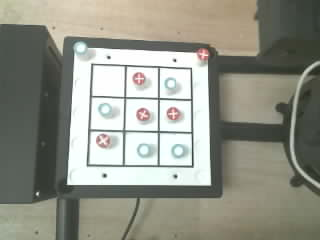blue circle: (137, 143, 150, 157), (73, 41, 87, 54), (171, 144, 185, 157), (98, 103, 111, 116), (164, 77, 176, 89)
board: (67, 41, 213, 185)
cells: (125, 132, 157, 165), (89, 132, 122, 164), (160, 133, 192, 165), (125, 99, 157, 130), (91, 98, 123, 129), (92, 65, 124, 96), (159, 100, 191, 131), (160, 68, 191, 98), (126, 67, 157, 97)
grid: (87, 64, 193, 167)
red cross: (167, 107, 181, 120), (96, 134, 110, 147), (136, 108, 150, 120), (133, 72, 145, 85), (197, 48, 209, 60)
